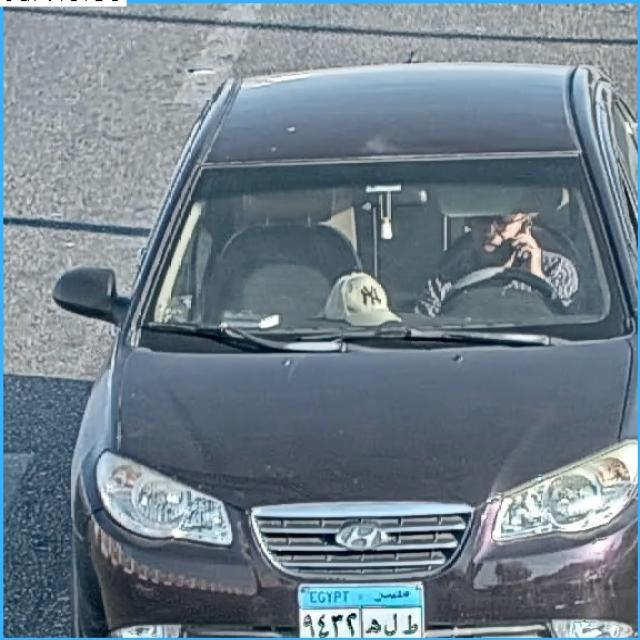windshield: (151, 165, 625, 340)
